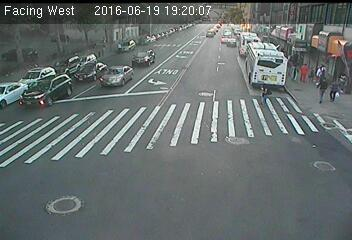neg: (79, 139, 111, 181), (30, 58, 62, 100), (155, 74, 185, 115), (120, 143, 150, 183), (27, 116, 55, 154), (240, 167, 267, 203), (46, 184, 72, 220), (211, 103, 237, 138), (305, 142, 331, 176), (171, 182, 196, 215), (264, 58, 289, 90), (204, 161, 228, 192), (277, 105, 299, 134), (121, 57, 142, 86), (81, 99, 98, 121), (208, 51, 224, 73), (178, 20, 194, 41)
pos: (311, 76, 333, 105)
